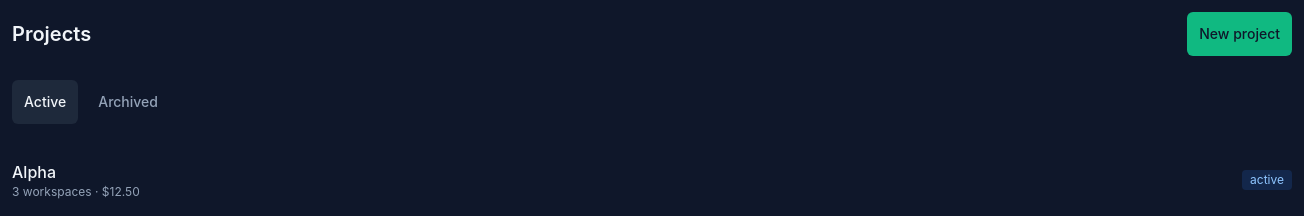
it: Projects › reveals the archived project's status once the Archived tab is selected
The width and height of the screenshot is (1304, 216).
Check: the link "Alpha" is shown, box 12,162 -> 56,182
Click the tab with test id "project-tab-archived" at (128, 102), box 86,80 -> 170,124
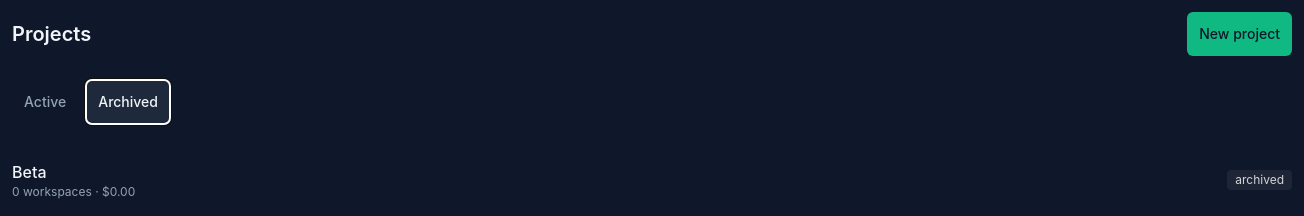
Check: the link "Beta" is shown, box 12,162 -> 46,182
Check: the link "Alpha" is gone
Check: the text with test id "project-status-archived" reads "archived", box 1235,172 -> 1284,187
